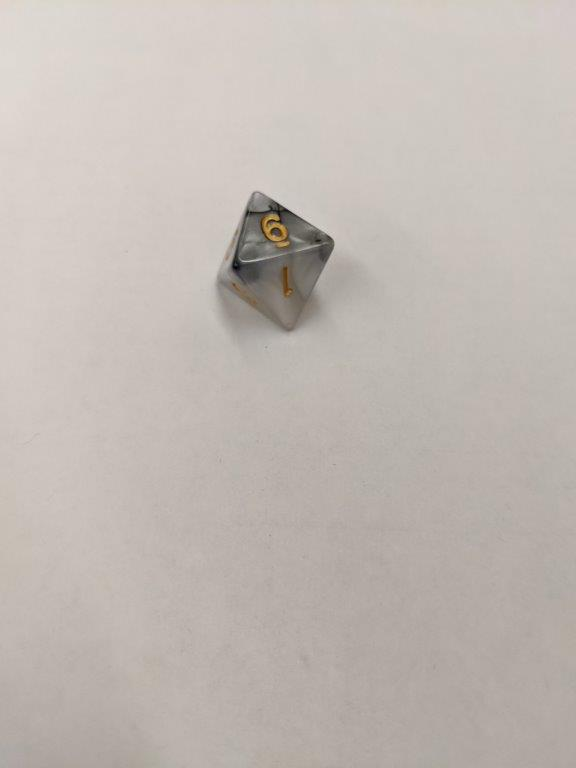d8-6: (214, 190, 333, 334)
